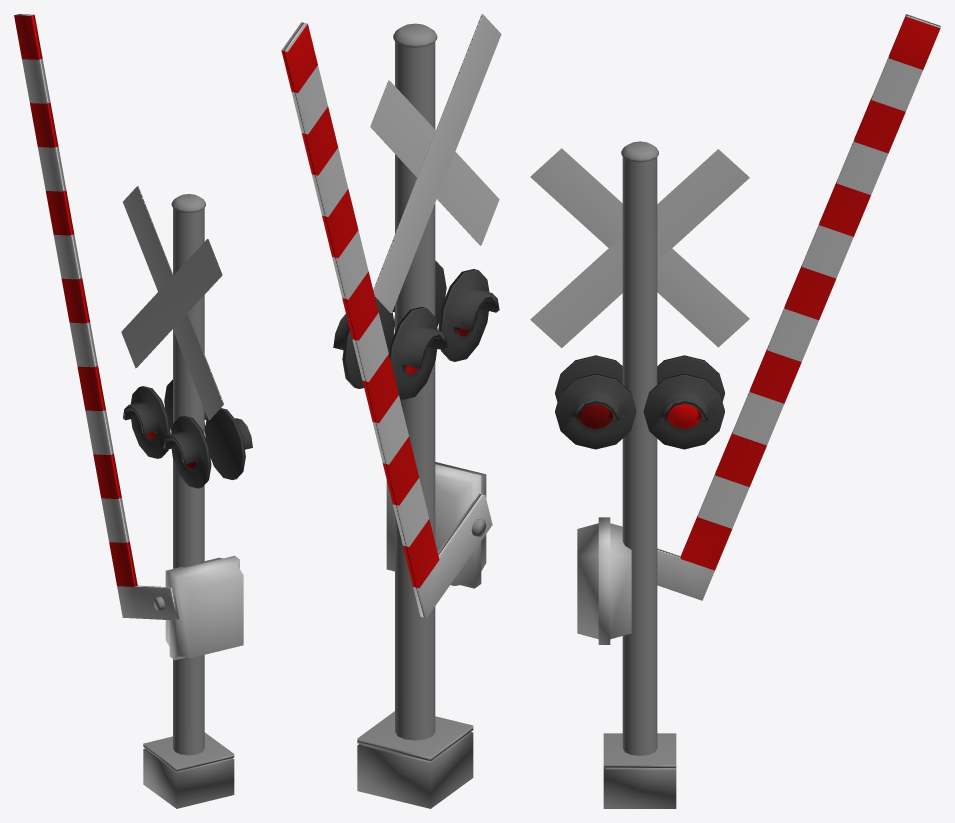
Rendered from RailroadCrossing 2.fbx.
The picture shows the model from 3 angles, left to right: view 1: azimuth 30°, elevation 25°; view 2: azimuth 150°, elevation 25°; view 3: azimuth 270°, elevation 25°; orthographic projection. The views are drawn at different scales.
Parts seen in each view (by area): view 1: Post, Arm, Lights; view 2: Post, Arm, Lights; view 3: Post, Arm, Lights.
Part boxes in pixels (x1,y1,x2,y2): Post: (121, 186, 243, 808); Arm: (14, 14, 179, 620); Lights: (123, 379, 252, 488); Post: (357, 14, 501, 808); Arm: (281, 22, 492, 617); Lights: (333, 260, 499, 399); Post: (530, 141, 749, 808); Arm: (657, 14, 940, 600); Lights: (555, 355, 724, 449).
Bounding box in the file's own units: 21.3 × 189 × 92.58.
